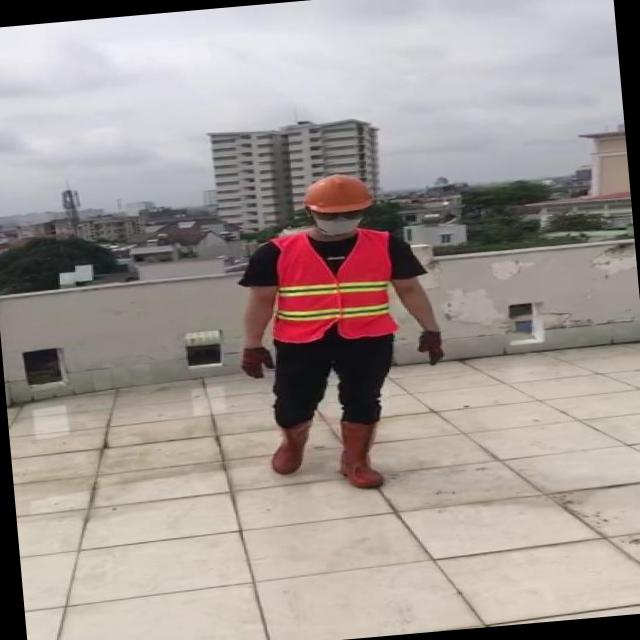hard_hat: (296, 167, 378, 218)
safety_vest: (266, 228, 400, 344)
vehicle: (206, 156, 462, 497)
work_boots: (338, 416, 392, 492), (252, 420, 318, 477)
